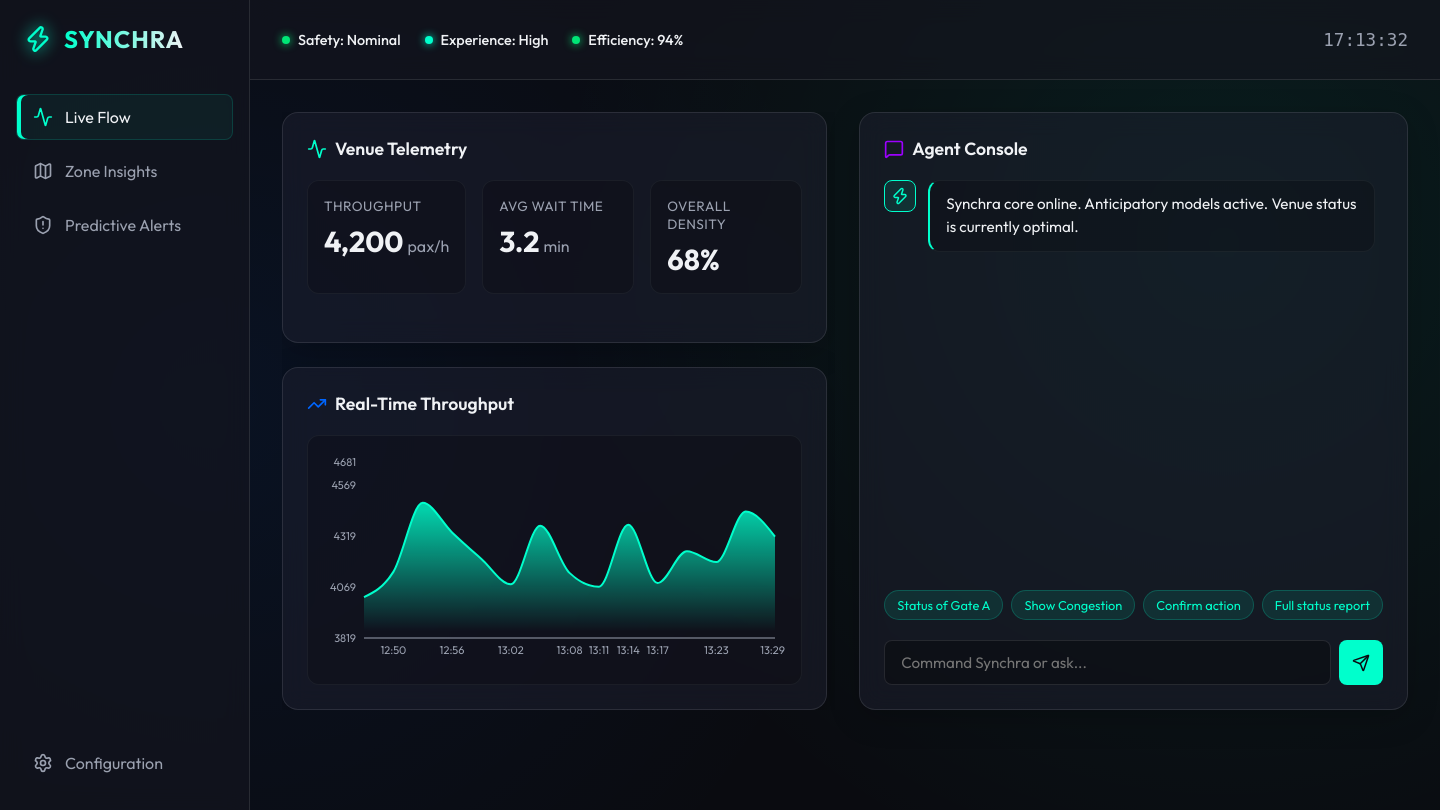
Synchra App – Agent Console › quick action chip populates the input field
What coordinates should you click on to do the following:
click the button with aria-label "Quick action: Status of Gate A"
I would click on:
 (944, 605)
Its box is [884,590,1004,620].
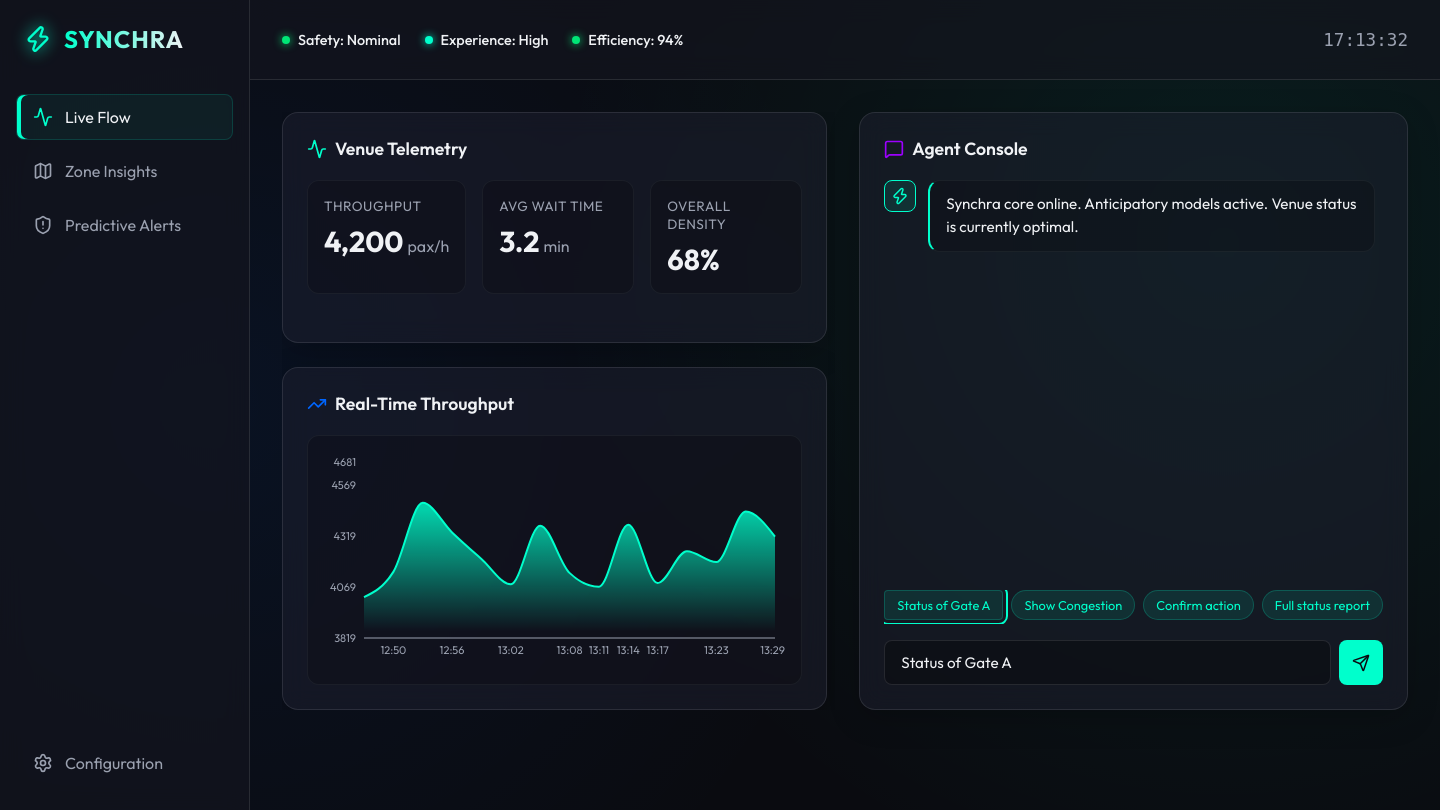
Now the field named "Type a command or question for Synchra" holds "Status of Gate A", box [884,640,1331,685]
